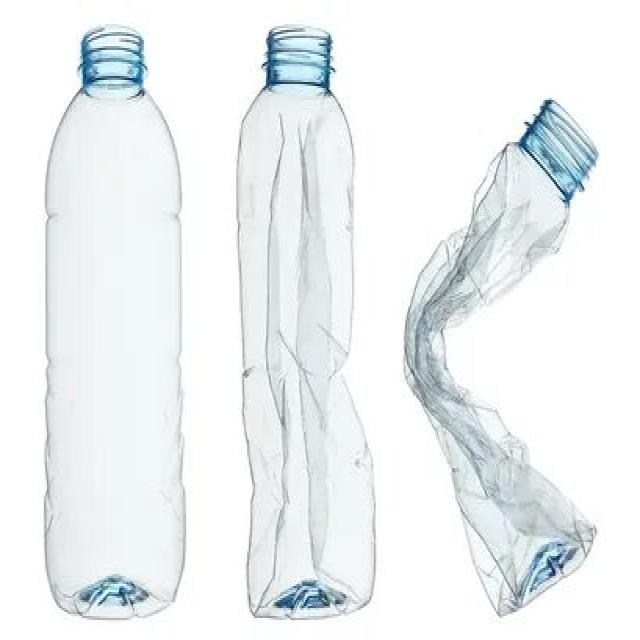blue: (402, 96, 597, 622), (235, 25, 377, 622), (44, 30, 185, 622)
